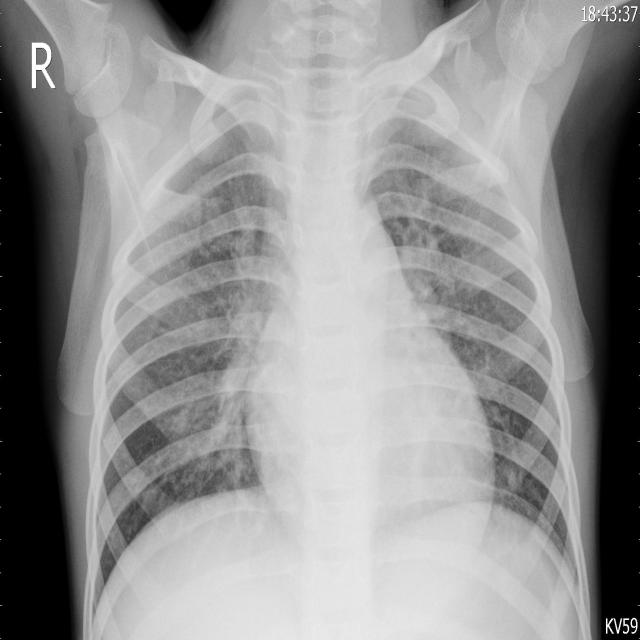low-pneumonia: (211, 209, 275, 416), (398, 178, 469, 338)
